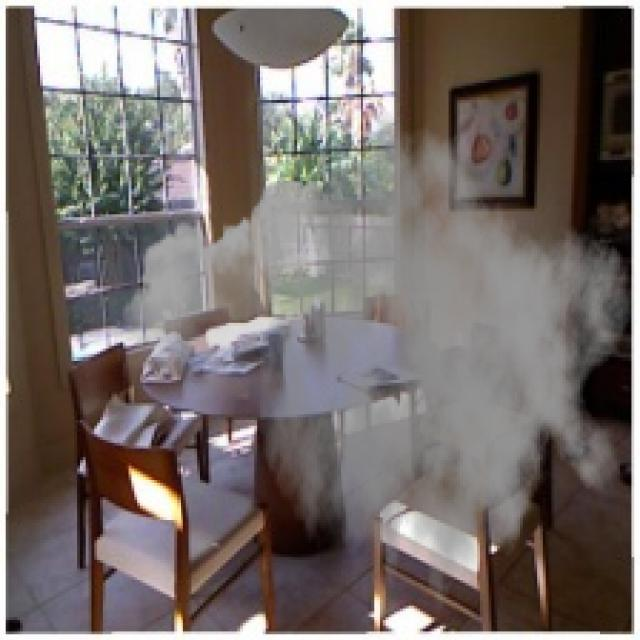Smoke: (115, 111, 634, 634)
